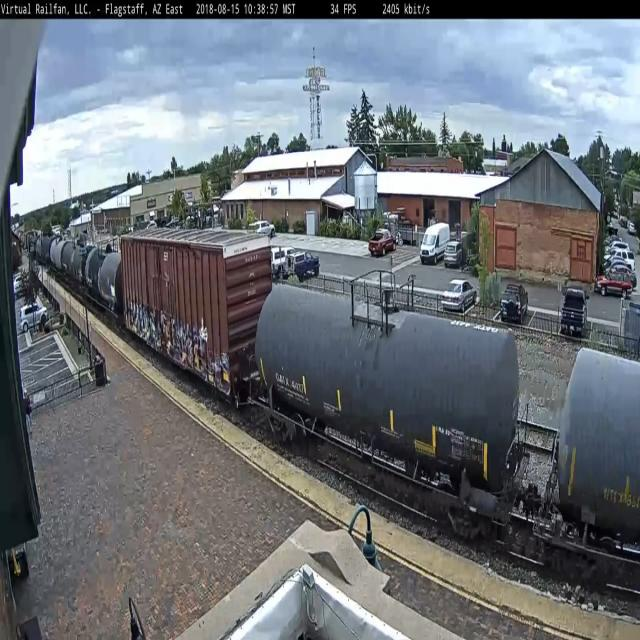boxcar: (115, 215, 275, 410)
tank: (245, 270, 532, 556), (537, 328, 640, 598)
